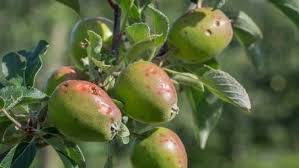damaged_apple: (48, 80, 125, 143), (115, 63, 182, 126), (169, 8, 233, 65), (126, 123, 189, 166)
